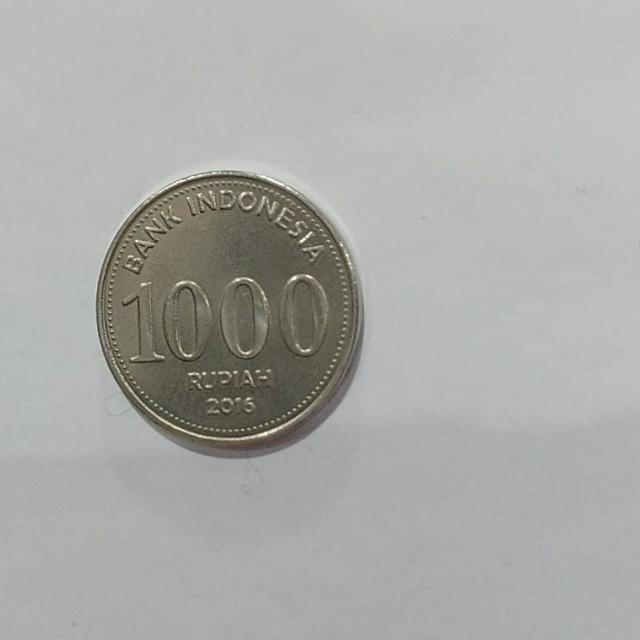Rp100: (93, 168, 364, 457)
